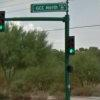Traffic light: (60, 35, 81, 62)
